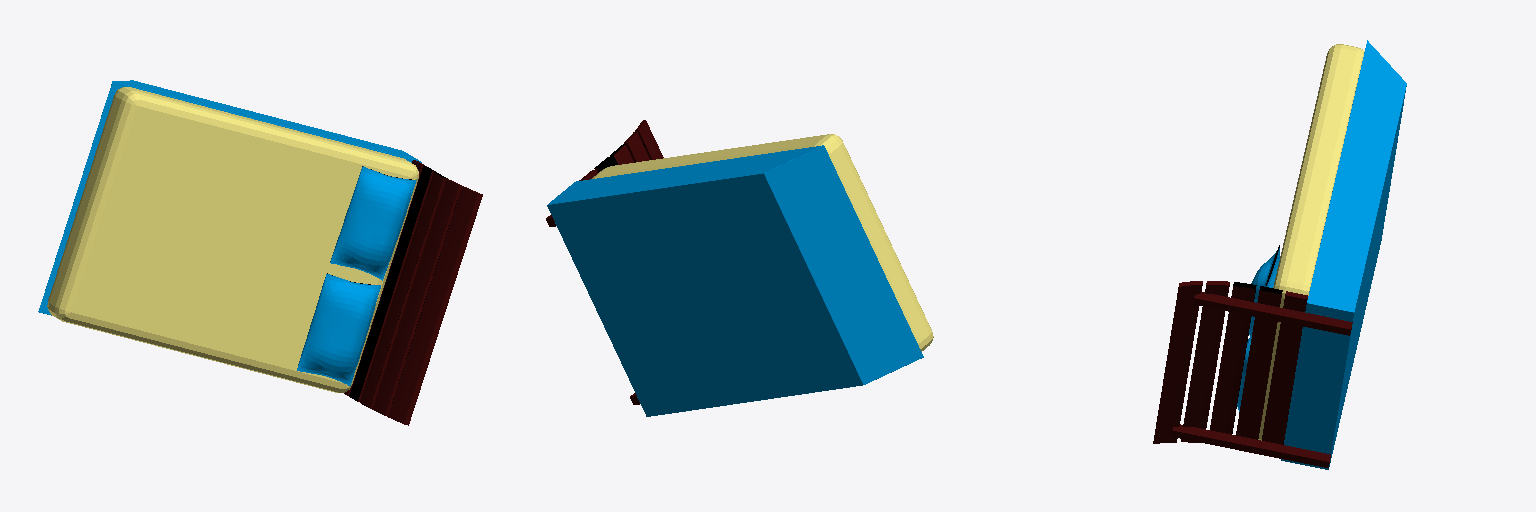
The model's file is bed.obj.
3 renders of one model, left to right at view 1: azimuth 30°, elevation 25°; view 2: azimuth 150°, elevation 25°; view 3: azimuth 270°, elevation 25°, orthographic.
Visible parts, largest first — view 1: Object.1, Object.2, Object.3; view 2: Object.1; view 3: Object.1, Object.2, Object.3.
Boxes of the visible parts, box(x1,y1,x2,y2) form: Object.1: box(38, 80, 482, 425); Object.2: box(360, 172, 447, 408); Object.3: box(349, 166, 436, 401); Object.1: box(546, 120, 933, 416); Object.1: box(1153, 40, 1406, 469); Object.2: box(1210, 282, 1256, 434); Object.3: box(1236, 286, 1282, 439).
Size of the model in its own units: 104 by 88.58 by 61.07.